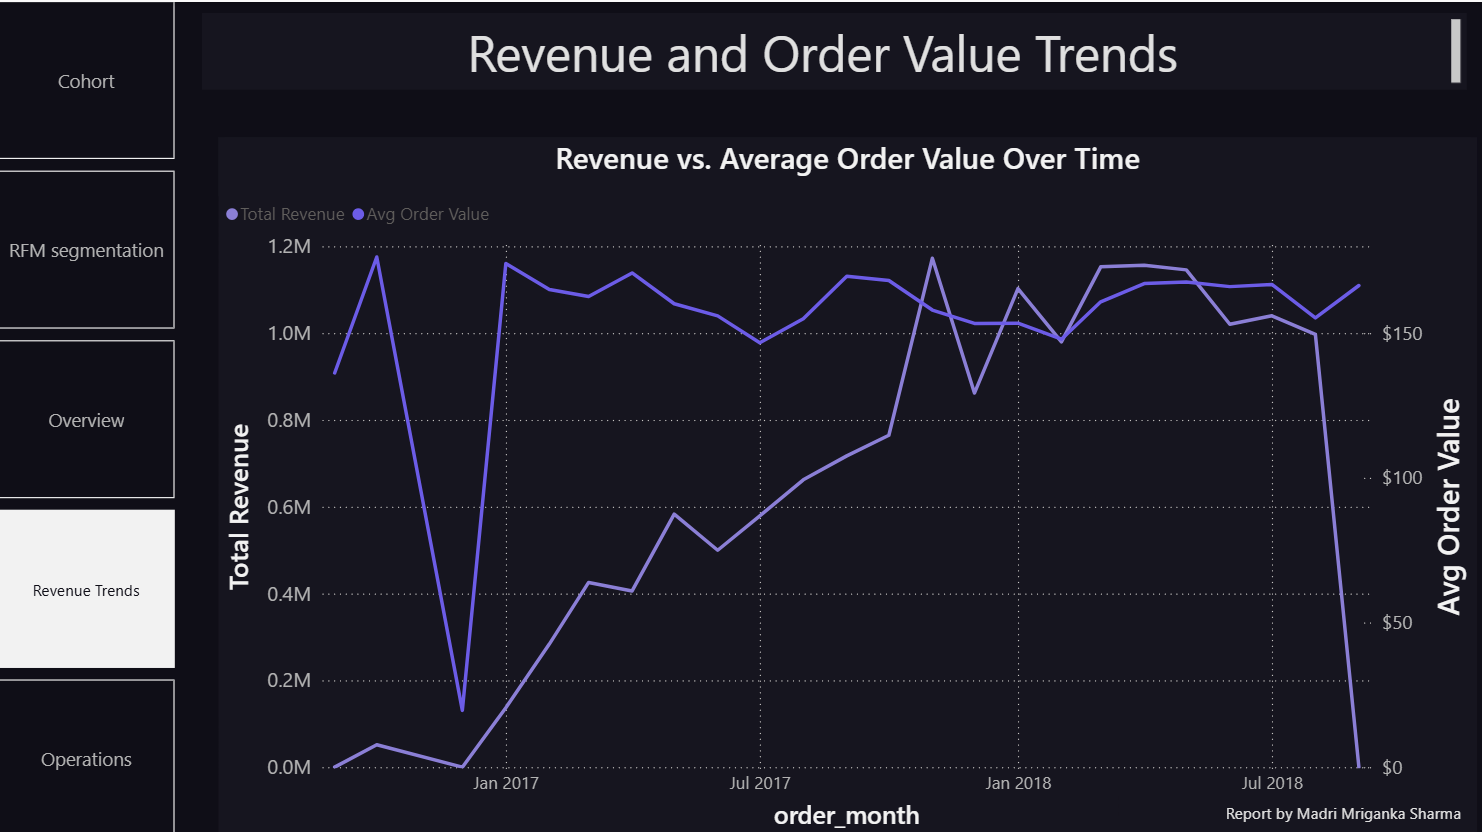

The dashboard page shown, as its layout file describes it:
{"tool":"powerbi","page":{"name":"Revenue Trends","canvas":[1280,720],"ordinal":3},"visuals":[{"type":"lineChart","title":"Revenue vs. Average Order Value Over Time","fields":{"Category":["revenue_trends.order_month"],"Y":["revenue_trends.Total Revenue"],"Y2":["revenue_trends.Avg Order Value"]},"box":[189.8,117.5,1083.3,601.7],"z":0},{"type":"textbox","box":[964.7,684,300.1,36],"z":1},{"type":"pageNavigator","box":[0,0,152.4,720.5],"z":2},{"type":"textbox","box":[175.6,10.3,1088.5,65.9],"z":3}]}

Visuals, with their boxes on the page's 1280x720 design canvas (x1, y1, x2, y2). These are canvas units, not pixel positions in the 1482x832 screenshot, which may show the page scaled, cropped or inside an application window:
"Revenue vs. Average Order Value Over Time" lineChart: l=190, t=118, r=1273, b=719
textbox: l=965, t=684, r=1265, b=720
pageNavigator: l=0, t=0, r=152, b=720
textbox: l=176, t=10, r=1264, b=76
